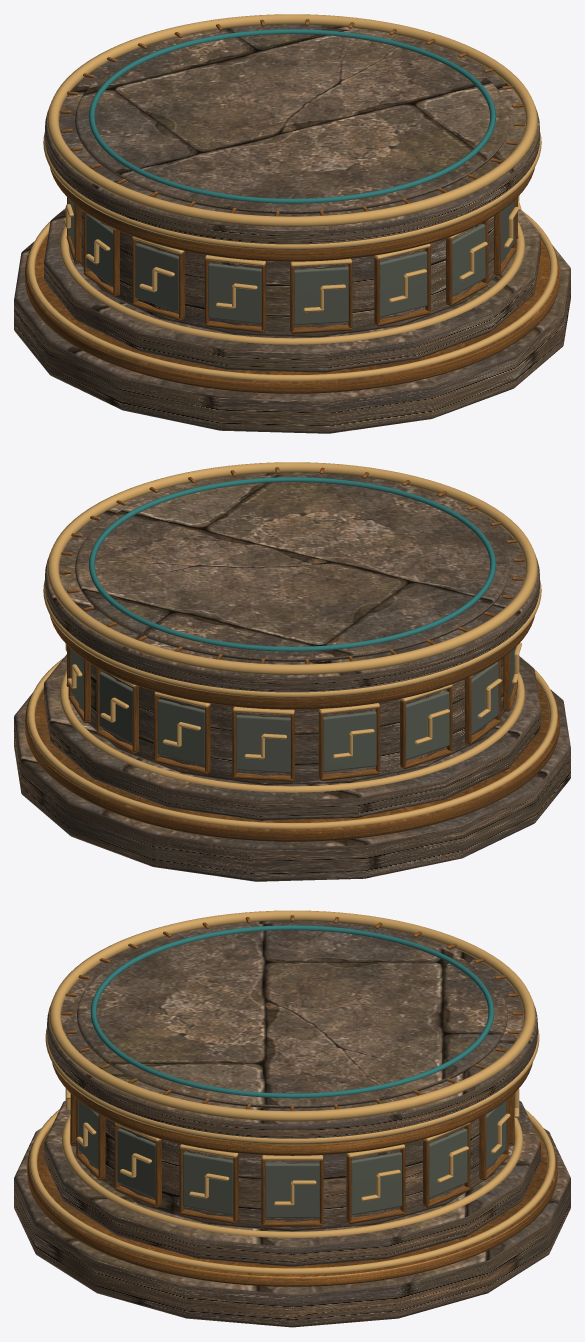
Rendered from time-exhibit-pedestal.glb.
3 renders of one model, top to bottom at view 1: azimuth 30°, elevation 25°; view 2: azimuth 150°, elevation 25°; view 3: azimuth 270°, elevation 25°, orthographic.
Visible parts, largest first — view 1: Exhibit pedestal Weathered limestone, Exhibit pedestal Worn gold edges, Exhibit pedestal Aged bronze, Exhibit pedestal Carved stone recess, Exhibit pedestal Turquoise patina; view 2: Exhibit pedestal Weathered limestone, Exhibit pedestal Worn gold edges, Exhibit pedestal Aged bronze, Exhibit pedestal Carved stone recess, Exhibit pedestal Turquoise patina; view 3: Exhibit pedestal Weathered limestone, Exhibit pedestal Worn gold edges, Exhibit pedestal Aged bronze, Exhibit pedestal Carved stone recess, Exhibit pedestal Turquoise patina.
Boxes of the visible parts, x1,y1,x2,y2 form: Exhibit pedestal Weathered limestone: (14, 24, 570, 433); Exhibit pedestal Worn gold edges: (27, 14, 557, 381); Exhibit pedestal Aged bronze: (25, 19, 559, 393); Exhibit pedestal Carved stone recess: (68, 198, 514, 324); Exhibit pedestal Turquoise patina: (89, 29, 495, 203); Exhibit pedestal Weathered limestone: (14, 472, 570, 881); Exhibit pedestal Worn gold edges: (27, 462, 557, 829); Exhibit pedestal Aged bronze: (25, 467, 559, 841); Exhibit pedestal Carved stone recess: (70, 647, 515, 772); Exhibit pedestal Turquoise patina: (89, 477, 495, 651); Exhibit pedestal Weathered limestone: (14, 920, 570, 1327); Exhibit pedestal Worn gold edges: (29, 910, 555, 1274); Exhibit pedestal Aged bronze: (27, 915, 557, 1286); Exhibit pedestal Carved stone recess: (78, 1100, 506, 1217); Exhibit pedestal Turquoise patina: (90, 925, 494, 1098).
Bounding box in the file's own units: 1.68 × 0.671 × 1.68.
Materials: 5 (2 with a texture image).
